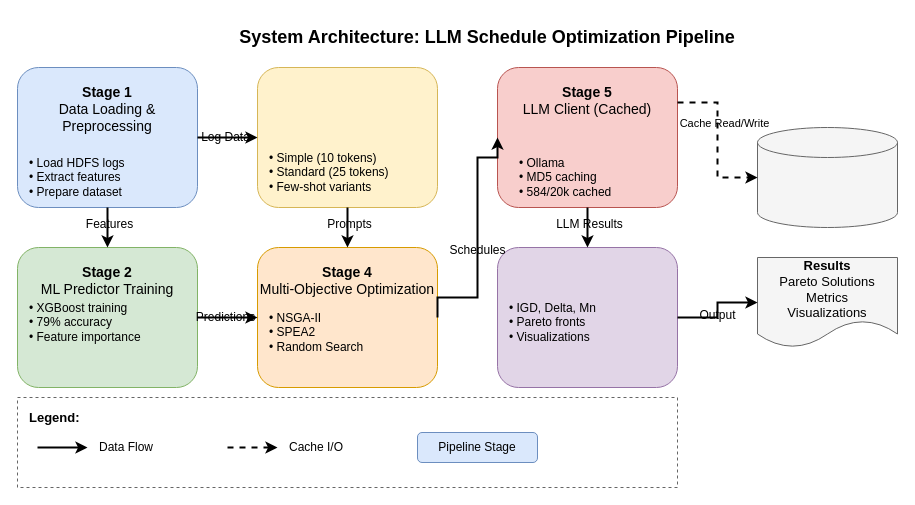
Some shapes in this 915 by 505 pixel diagram are drawn without their labels. Each missing label, with the box of its shape:
Cache Storage JSON Files (MD5-based): (756, 126, 898, 228)
Stage 3 Prompt Strategy Builder: (256, 66, 438, 208)
Stage 6 Evaluation & Metrics: (496, 246, 678, 388)
